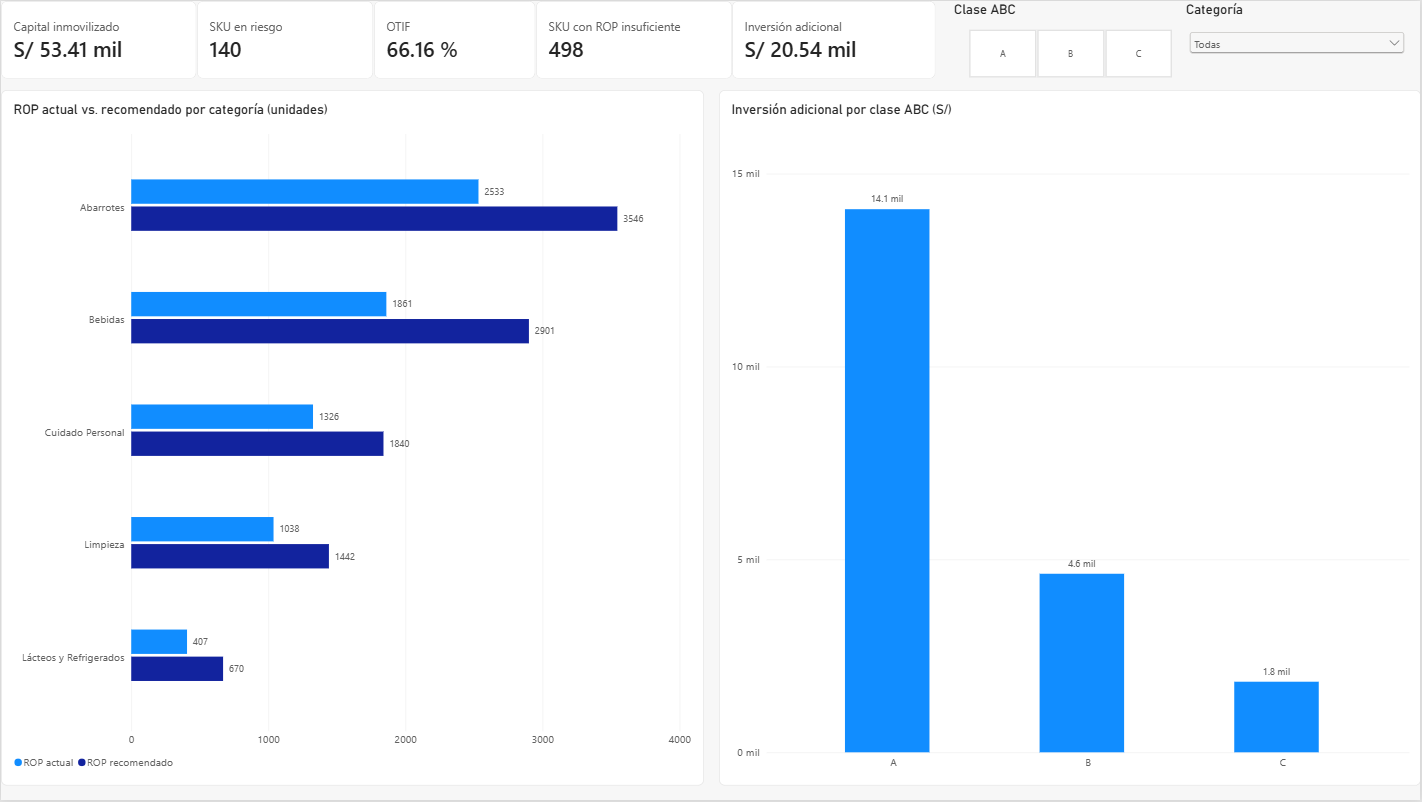

The dashboard page shown, as its layout file describes it:
{"tool":"powerbi","page":{"name":"Página 1","canvas":[1920,1080],"ordinal":0},"visuals":[{"type":"cardVisual","fields":{"Data":["reposicion_por_sku.Capital inmovilizado"]},"box":[0,0,264.6,105.3],"z":0},{"type":"cardVisual","fields":{"Data":["reposicion_por_sku.Inversion adicional"]},"box":[987.5,0,275,105],"z":1},{"type":"cardVisual","fields":{"Data":["reposicion_por_sku.SKU en riesgo"]},"box":[265,0,238.8,105],"z":2},{"type":"cardVisual","fields":{"Data":["pedidos_proveedor.OTIF"]},"box":[503.8,0,218.8,105],"z":3},{"type":"cardVisual","fields":{"Data":["reposicion_por_sku.SKU con ROP insuficiente"]},"box":[722.5,0,265,105],"z":4},{"type":"slicer","title":"Clase ABC","fields":{"Values":["reposicion_por_sku.clase_abc"]},"box":[1288.3,0,313.3,105],"z":5},{"type":"slicer","title":"Categoría","fields":{"Values":["reposicion_por_sku.categoria"]},"box":[1601.7,0,300,105],"z":6},{"type":"clusteredBarChart","title":"ROP actual vs. recomendado por categoría (unidades)","fields":{"Category":["reposicion_por_sku.categoria"],"Y":["Sum(reposicion_por_sku.stock_minimo_actual)","Sum(reposicion_por_sku.rop_recomendado)"]},"box":[0,120,950,940],"z":7},{"type":"clusteredColumnChart","title":"Inversión adicional por clase ABC (S/)","fields":{"Category":["reposicion_por_sku.clase_abc"],"Y":["Sum(reposicion_por_sku.inversion_adicional)"]},"box":[970,120,950,940],"z":8}]}

Visuals, with their boxes in screenshot pixels (x1, y1, x2, y2), scaled from the page's 1920x1080 canvas onto the 1422x802 screenshot:
cardVisual - reposicion_por_sku.Capital inmovilizado: x1=0, y1=0, x2=196, y2=78
cardVisual - reposicion_por_sku.Inversion adicional: x1=731, y1=0, x2=935, y2=78
cardVisual - reposicion_por_sku.SKU en riesgo: x1=196, y1=0, x2=373, y2=78
cardVisual - pedidos_proveedor.OTIF: x1=373, y1=0, x2=535, y2=78
cardVisual - reposicion_por_sku.SKU con ROP insuficiente: x1=535, y1=0, x2=731, y2=78
"Clase ABC" slicer: x1=954, y1=0, x2=1186, y2=78
"Categoría" slicer: x1=1186, y1=0, x2=1408, y2=78
"ROP actual vs. recomendado por categoría (unidades)" clusteredBarChart: x1=0, y1=89, x2=704, y2=787
"Inversión adicional por clase ABC (S/)" clusteredColumnChart: x1=718, y1=89, x2=1421, y2=787
